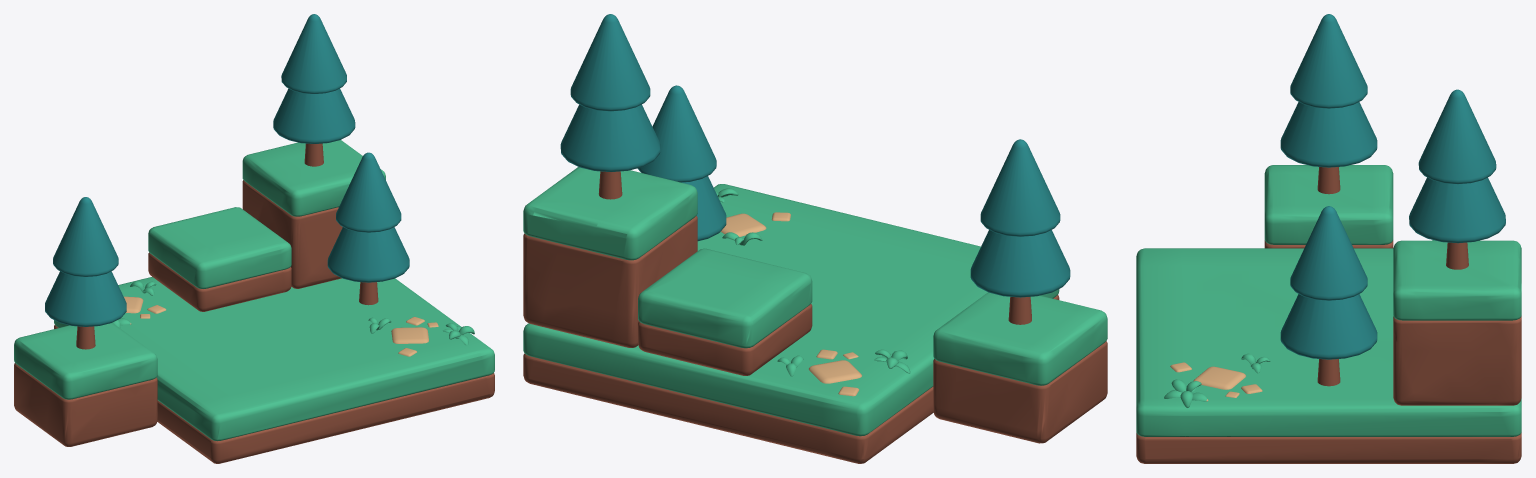
Rendered from ShockwaveScene.glb.
3 renders of one model, left to right at view 1: azimuth 30°, elevation 25°; view 2: azimuth 150°, elevation 25°; view 3: azimuth 270°, elevation 25°, orthographic. The views are drawn at different scales.
Visible parts, largest first — view 1: tileLarge_forest, tree_forest.001, tree_forest, tree_forest.002, detail_forest, detail_forest.001; view 2: tileLarge_forest, tree_forest.002, tree_forest.001, tree_forest, detail_forest.001, detail_forest; view 3: tileLarge_forest, tree_forest.002, tree_forest, tree_forest.001, detail_forest.
Part boxes in pixels (x1,y1,x2,y2): tileLarge_forest: (14, 140, 494, 463); tree_forest.001: (273, 14, 355, 166); tree_forest: (327, 152, 409, 305); tree_forest.002: (45, 197, 126, 349); detail_forest: (368, 316, 474, 356); detail_forest.001: (112, 281, 166, 327); tileLarge_forest: (523, 167, 1107, 463); tree_forest.002: (970, 139, 1070, 324); tree_forest.001: (560, 14, 660, 199); tree_forest: (637, 85, 726, 241); detail_forest.001: (777, 349, 910, 396); detail_forest: (716, 188, 790, 245); tileLarge_forest: (1136, 165, 1521, 463); tree_forest.002: (1280, 14, 1377, 194); tree_forest: (1280, 206, 1377, 386); tree_forest.001: (1409, 89, 1505, 269); detail_forest: (1164, 353, 1270, 407).
Size of the model in its own units: 8 by 6 by 6.
Materials: 1 (1 with a texture image).
